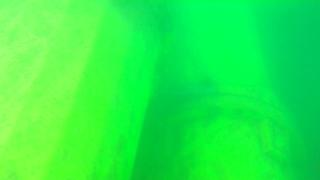pipe: (1, 1, 161, 179), (161, 1, 309, 179)
